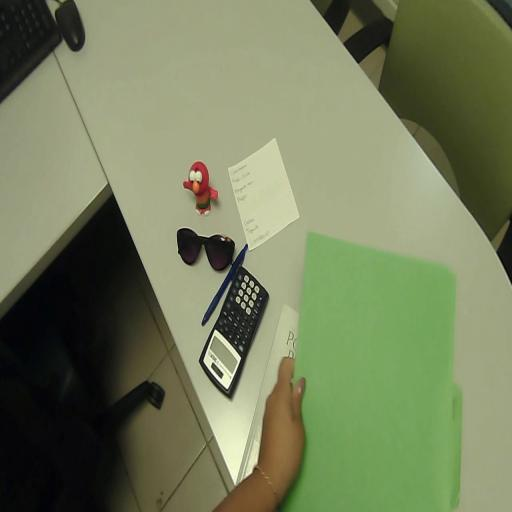pen: (202, 245, 248, 326)
